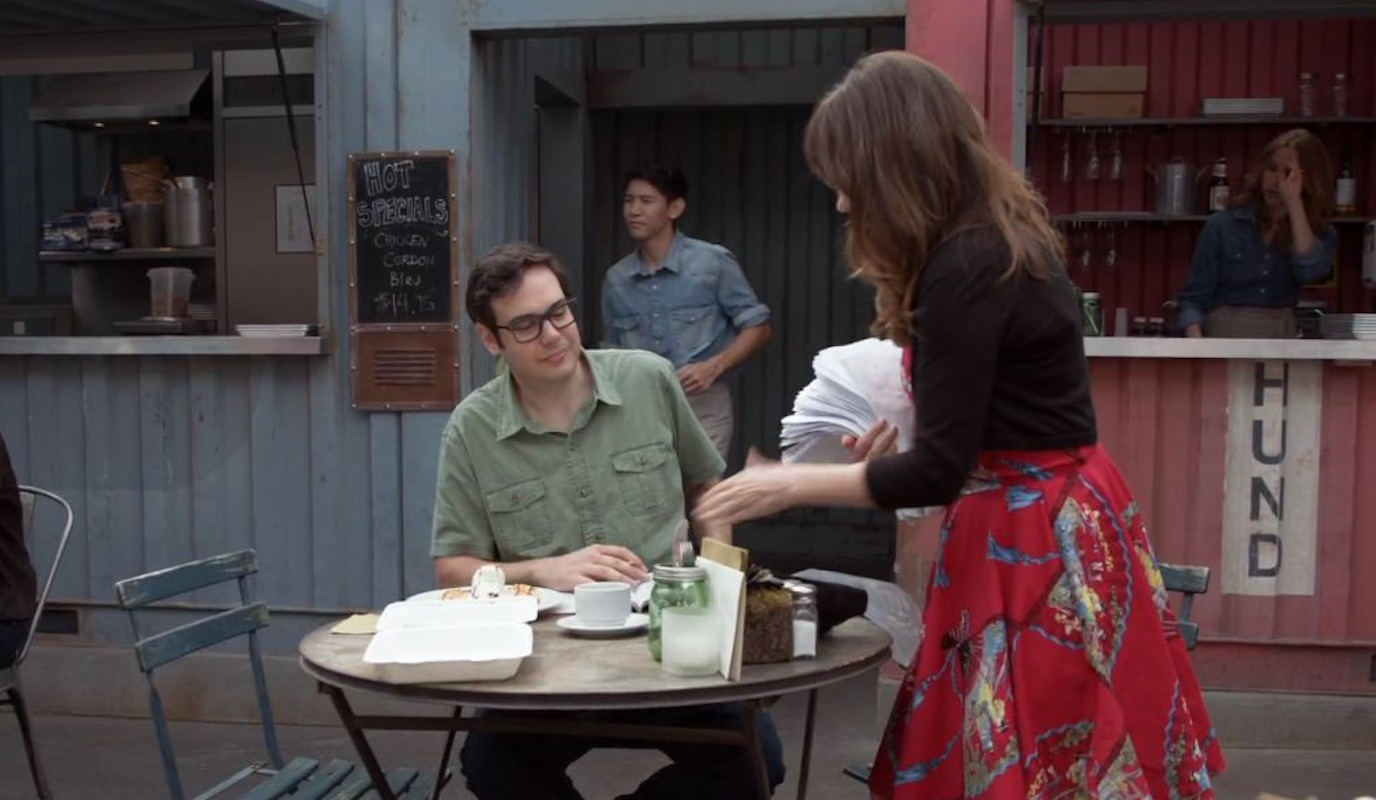person: (727, 36, 1224, 800), (436, 241, 724, 582), (574, 148, 758, 447), (1185, 95, 1341, 349)
